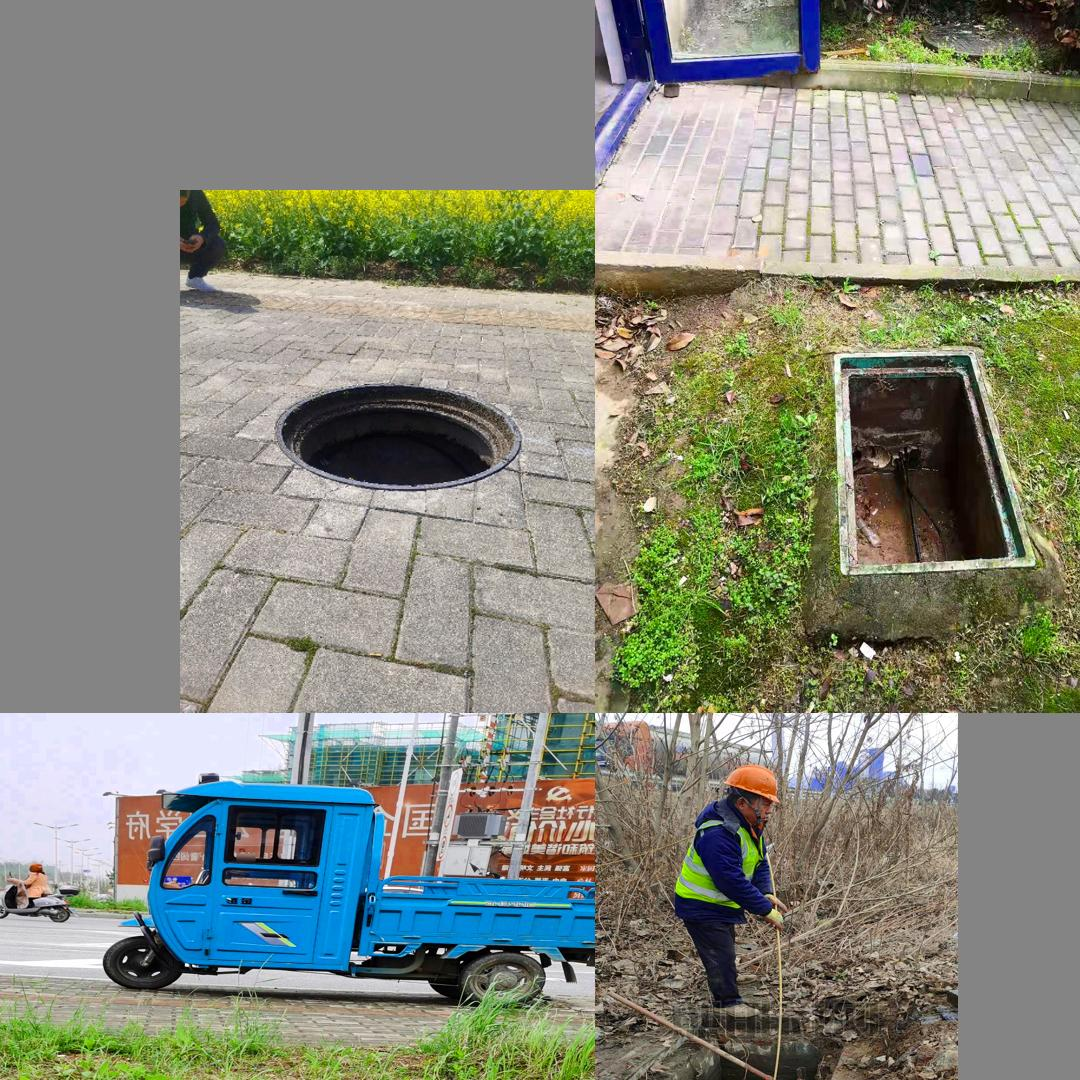lose: (830, 346, 1032, 579), (271, 370, 530, 502), (619, 1035, 849, 1080)
